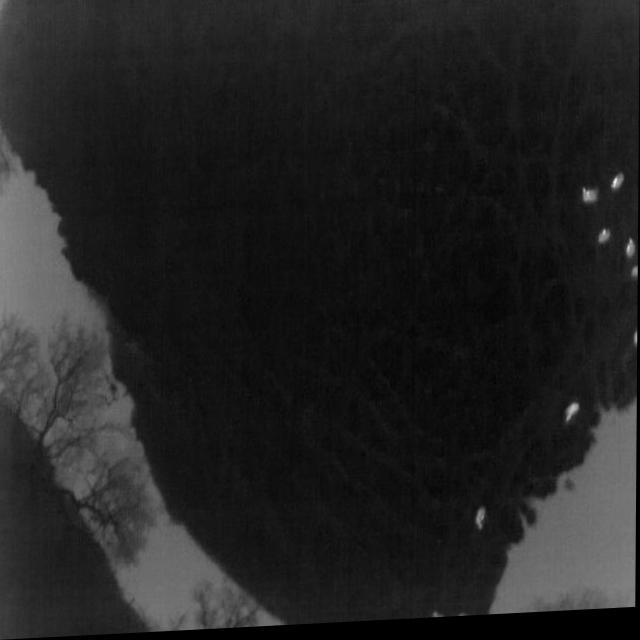deer: (565, 408, 580, 428), (582, 192, 599, 209), (476, 512, 487, 536), (611, 180, 625, 197), (598, 234, 611, 249), (627, 245, 636, 265), (631, 272, 638, 287), (634, 334, 638, 355), (433, 616, 446, 622)
